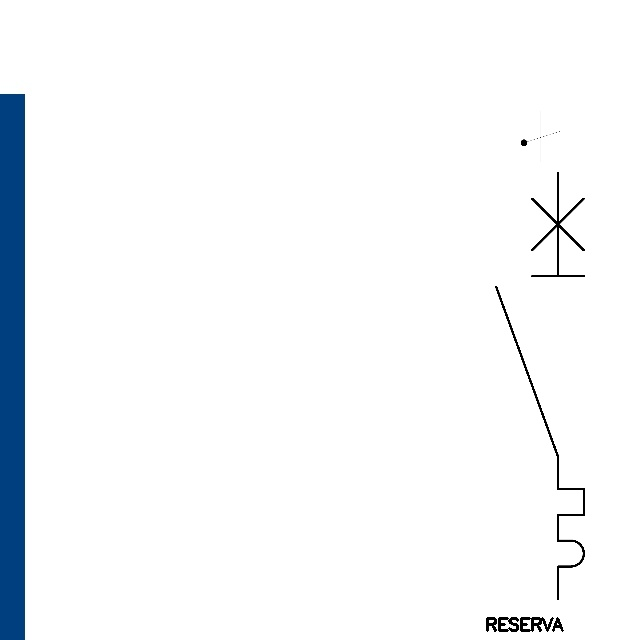interruptor_termomagnetico: (485, 161, 595, 610)
